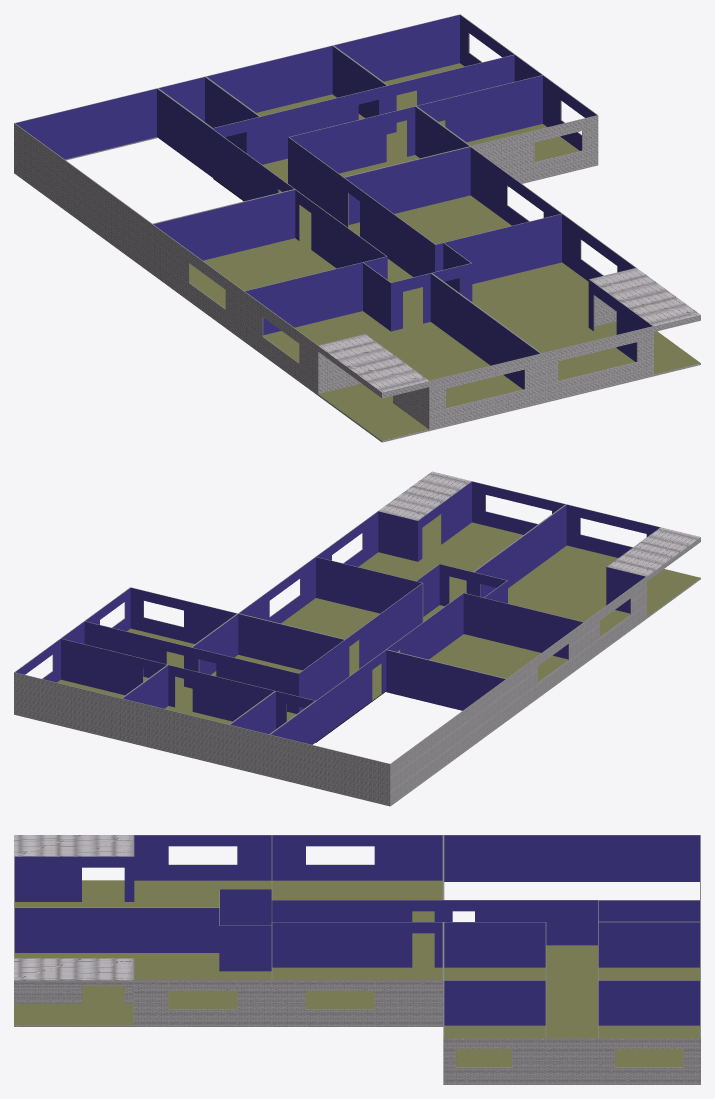
Rendered from Building001_MidFloor001.FBX.
The picture shows the model from 3 angles, top to bottom: view 1: azimuth 30°, elevation 25°; view 2: azimuth 150°, elevation 25°; view 3: azimuth 270°, elevation 25°; orthographic projection. The views are drawn at different scales.
Visible parts, largest first — view 1: Mid-Floor; view 2: Mid-Floor; view 3: Mid-Floor.
Boxes of the visible parts, bbox=[...] form: Mid-Floor: bbox=[14, 14, 700, 442]; Mid-Floor: bbox=[14, 471, 700, 806]; Mid-Floor: bbox=[14, 835, 700, 1084].
Size of the model in its own units: 1102 by 118 by 1575.
